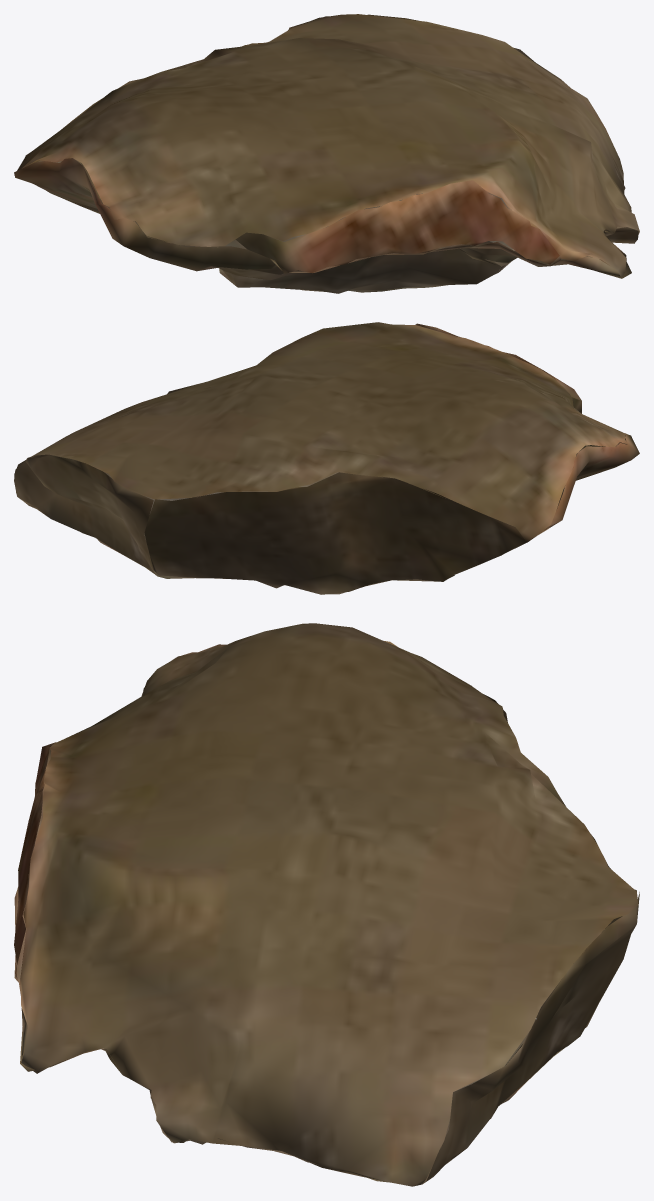
The model's file is namaqualand_stones_01_v4.glb.
The picture shows the model from 3 angles, top to bottom: view 1: azimuth 30°, elevation 25°; view 2: azimuth 150°, elevation 25°; view 3: azimuth 270°, elevation 25°; orthographic projection. The views are drawn at different scales.
Visible parts, largest first — view 1: lod0; view 2: lod0; view 3: lod0.
Part boxes in pixels (x1,y1,x2,y2): lod0: [14, 14, 639, 293]; lod0: [14, 322, 639, 594]; lod0: [14, 623, 639, 1186].
Size of what is drawn, in the model's own units: 0.1149 by 0.0367 by 0.0825.
1 material, 1 textured.
